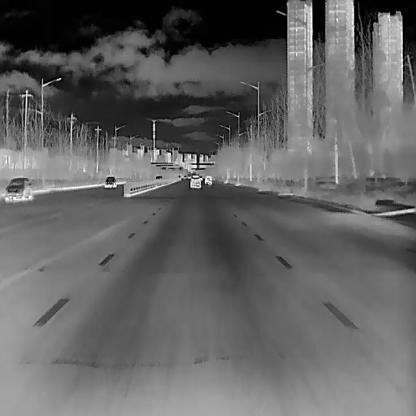car: (5, 176, 31, 202), (103, 175, 116, 187), (190, 174, 200, 188), (204, 174, 212, 184)
